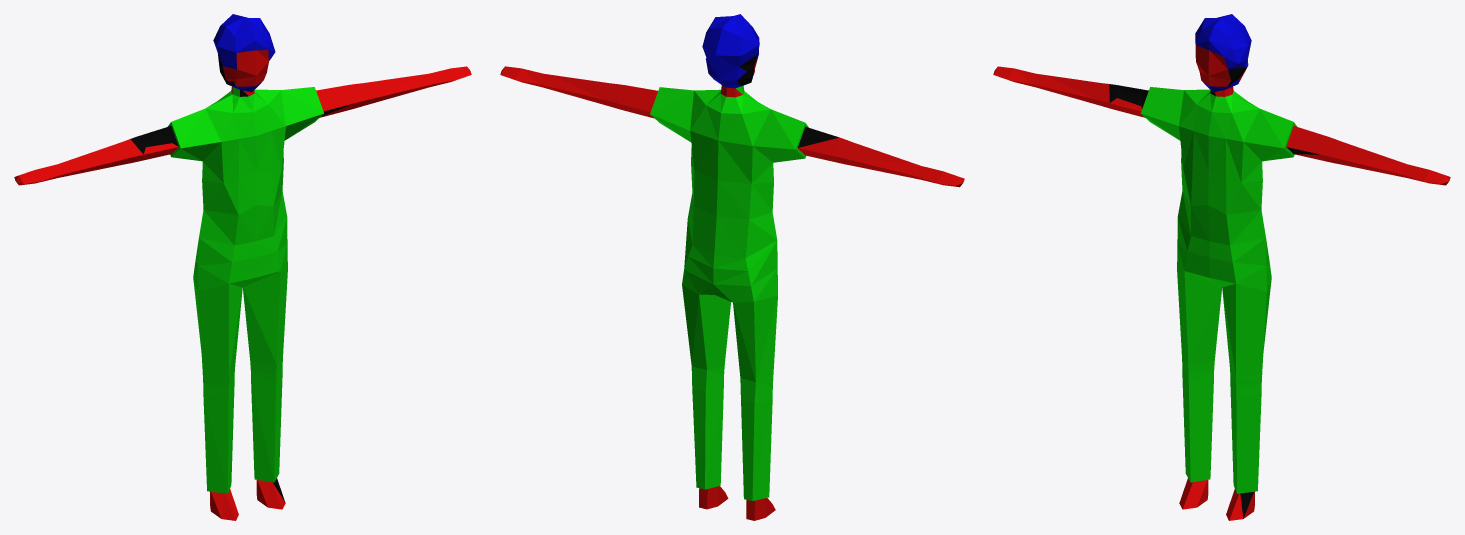
Rendered from Zombies_Male_Elder_NoArmature.fbx.
3 renders of one model, left to right at view 1: azimuth 30°, elevation 25°; view 2: azimuth 150°, elevation 25°; view 3: azimuth 330°, elevation 25°, orthographic.
Visible parts, largest first — view 1: Male_Elder; view 2: Male_Elder; view 3: Male_Elder.
Part boxes in pixels (x1,y1,x2,y2): Male_Elder: (14, 14, 471, 520); Male_Elder: (500, 14, 964, 520); Male_Elder: (993, 14, 1450, 520).
Size of the model in its own units: 155 by 159 by 20.78.
